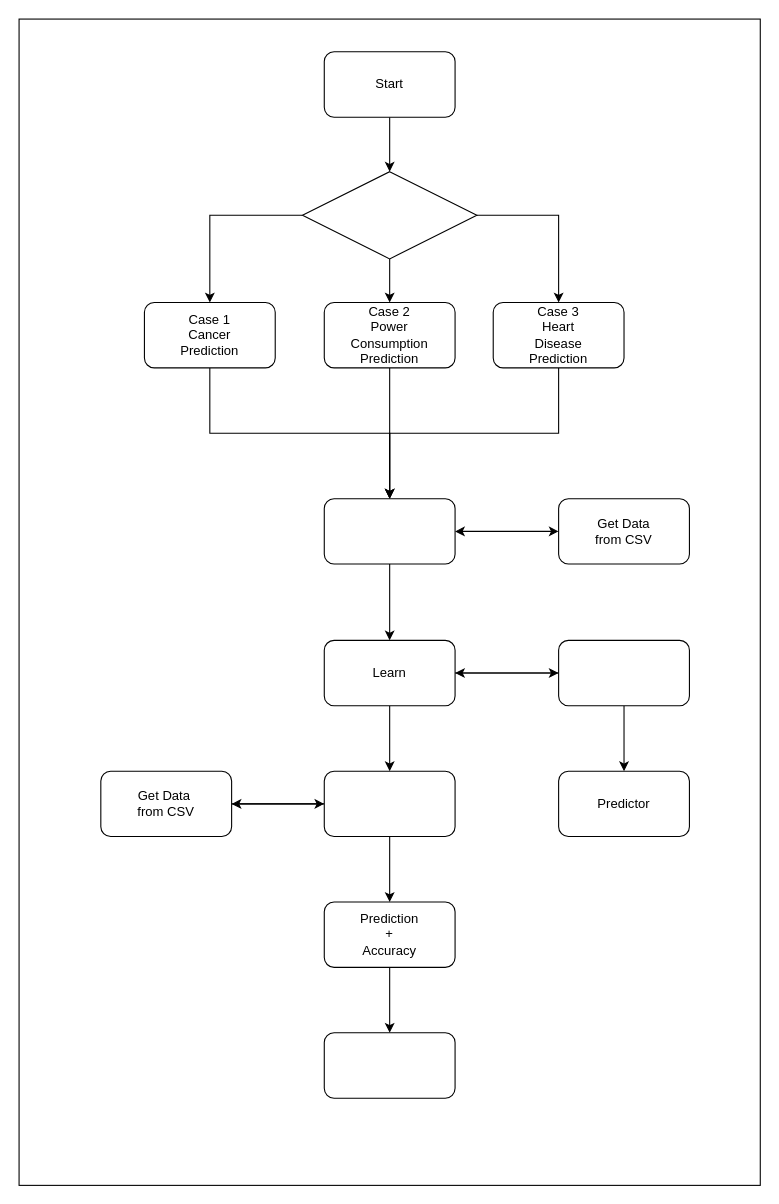
This 779x1204 diagram has some shape labels left out. Here are the shapes that lost their labels. From the top down, the centre of each, then its label:
[389,215]: User Selection
[389,531]: Get Training Data
[623,672]: MultiSequence Learning
[389,803]: Get Testing Data
[389,1065]: Stop
